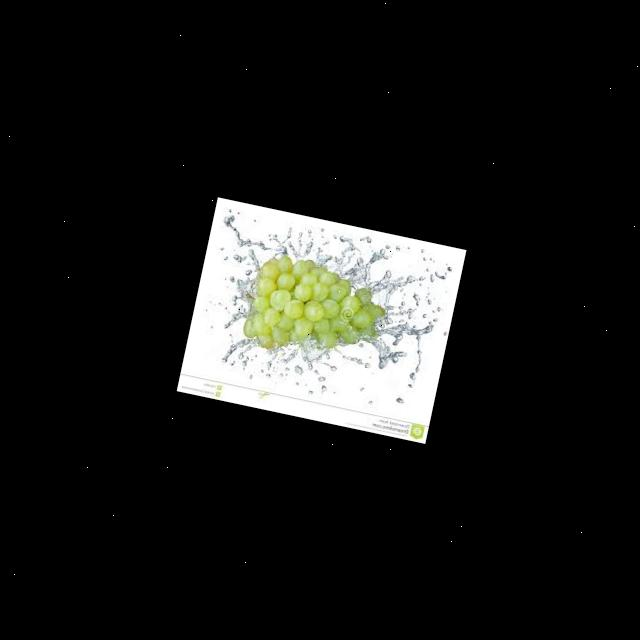grape: (238, 248, 392, 370)
